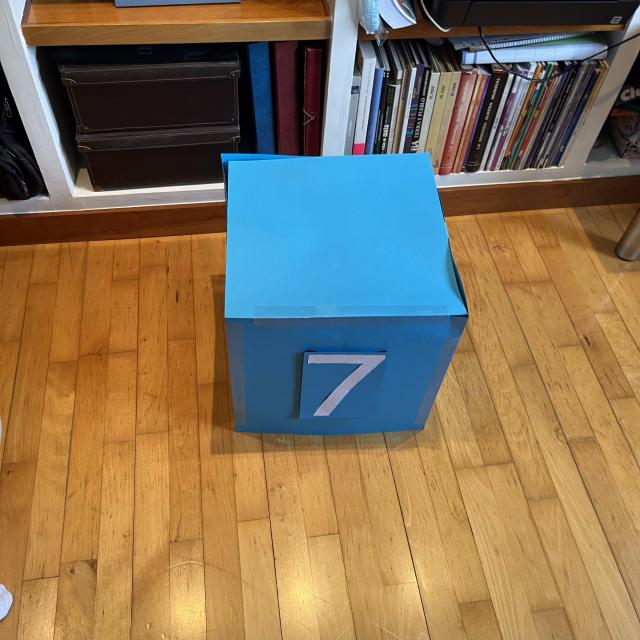box: (216, 148, 472, 438)
